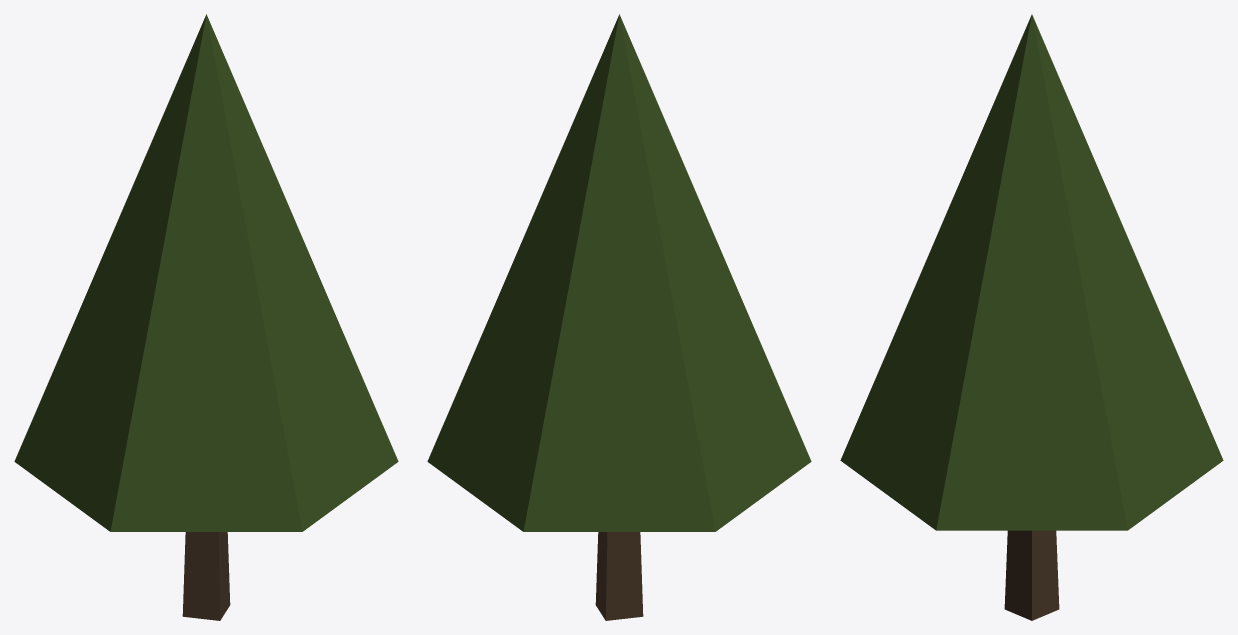
File: e3_fjerntrae.glb
The picture shows the model from 3 angles, left to right: view 1: azimuth 30°, elevation 25°; view 2: azimuth 150°, elevation 25°; view 3: azimuth 270°, elevation 25°; orthographic projection.
Visible parts, largest first — view 1: E3_fjerntrae; view 2: E3_fjerntrae; view 3: E3_fjerntrae.
Part boxes in pixels (<box>): E3_fjerntrae: <box>14,14,398,620</box>; E3_fjerntrae: <box>427,14,811,620</box>; E3_fjerntrae: <box>840,14,1223,620</box>.
Bounding box in the file's own units: 2.42 × 4.8 × 2.8.
